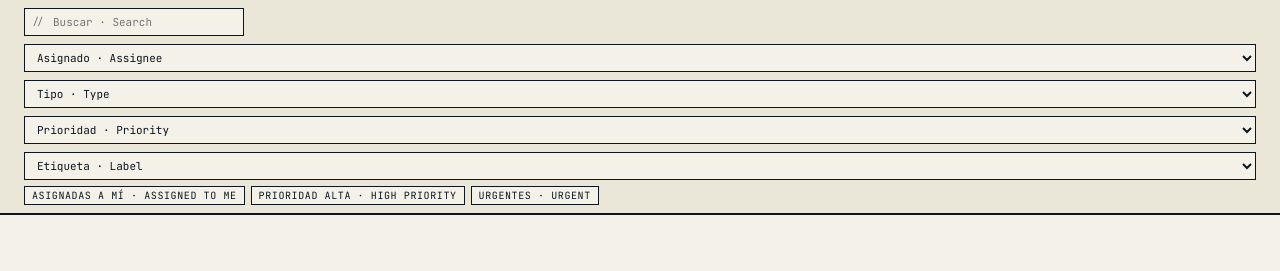
Test: FilterBar — chips & clear › clear-all resets every filter and pushes null to the parent
Type "crash" into the search field named "Buscar tickets · Search issues" at (134, 22), box [24,8,244,36]
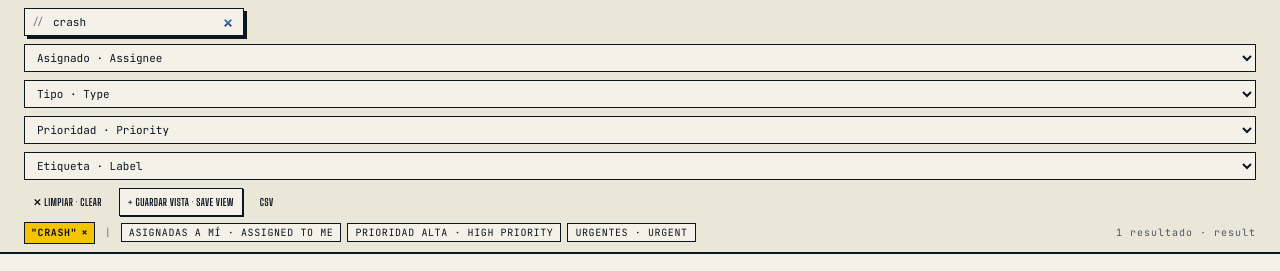
Click the button "✕ Limpiar · Clear" at (67, 202), box [24,188,111,216]
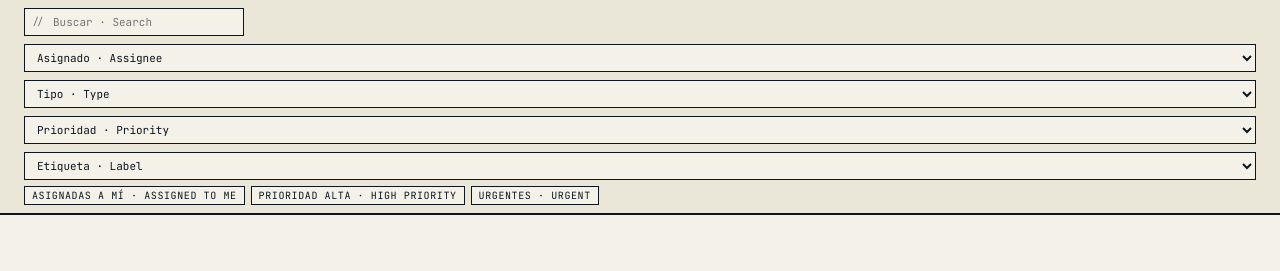
Expected: the text "\"crash\"" is gone
Expected: the button "Limpiar · Clear" is gone
